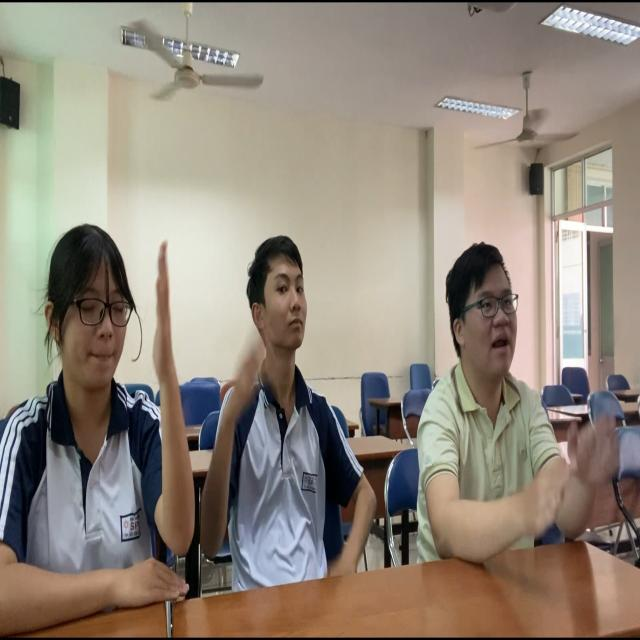raise_hand: (4, 187, 225, 640)
